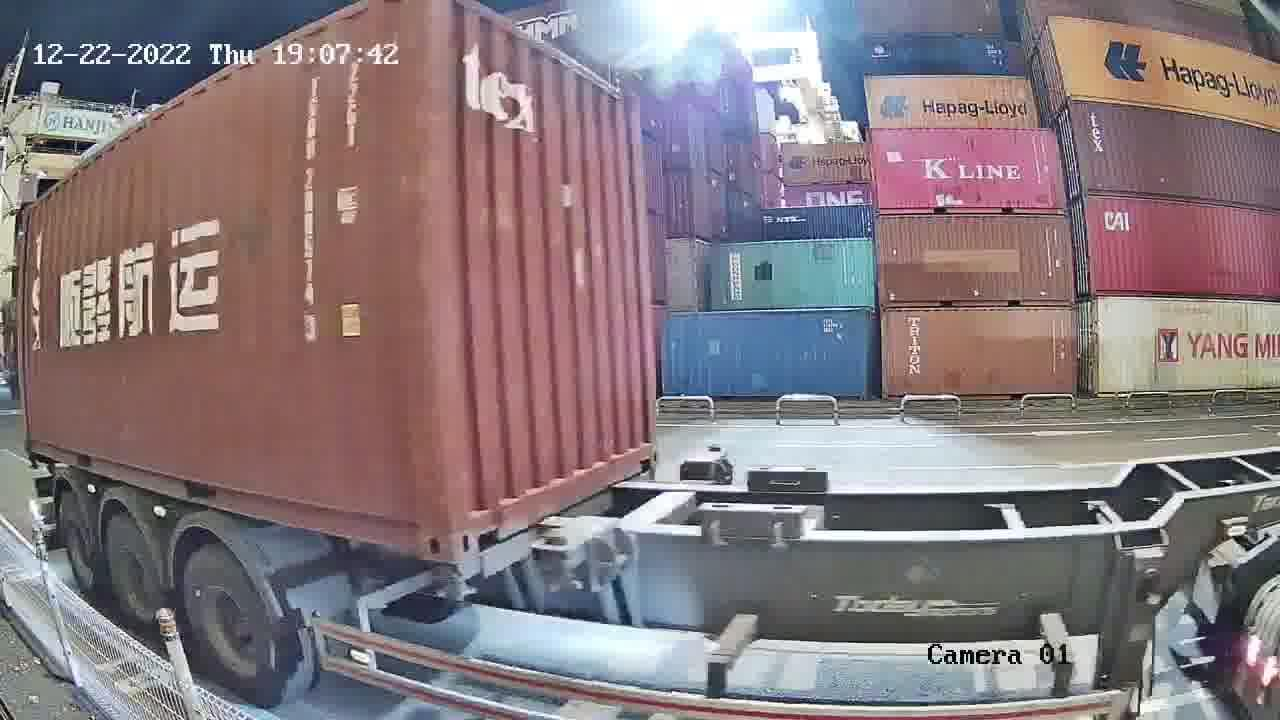Chassis: (433, 471, 658, 588)
Cone: (431, 566, 467, 605)
Hole_L: (449, 483, 507, 564)
Hole_R: (385, 497, 456, 563), (632, 430, 662, 473)
Tire: (183, 547, 273, 697), (105, 519, 157, 633), (60, 497, 99, 596)
